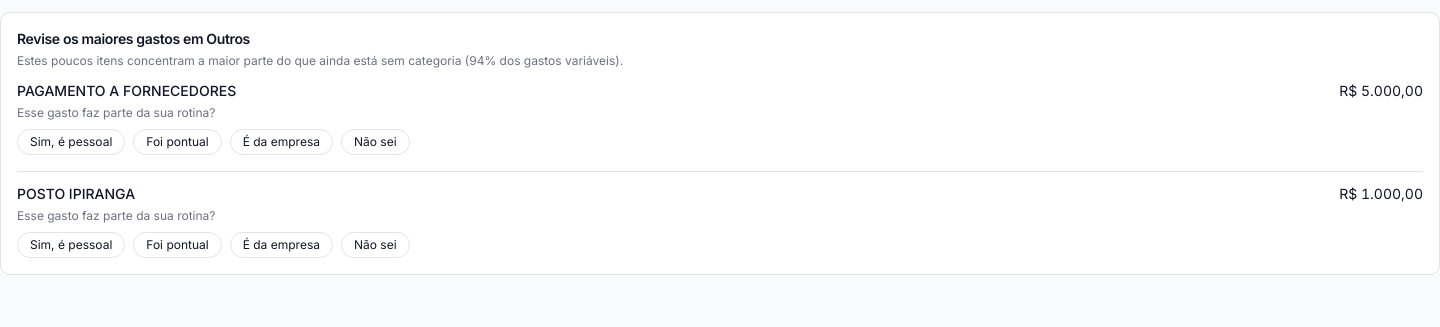
Test: OutrosReview › "Sim, é pessoal" revela o seletor de categoria (sem Outros)
// pega o primeiro botão "Sim, é pessoal" (item A)
Click the button "Sim, é pessoal" below "PAGAMENTO A FORNECEDORES" at (71, 142), box [17, 129, 125, 155]
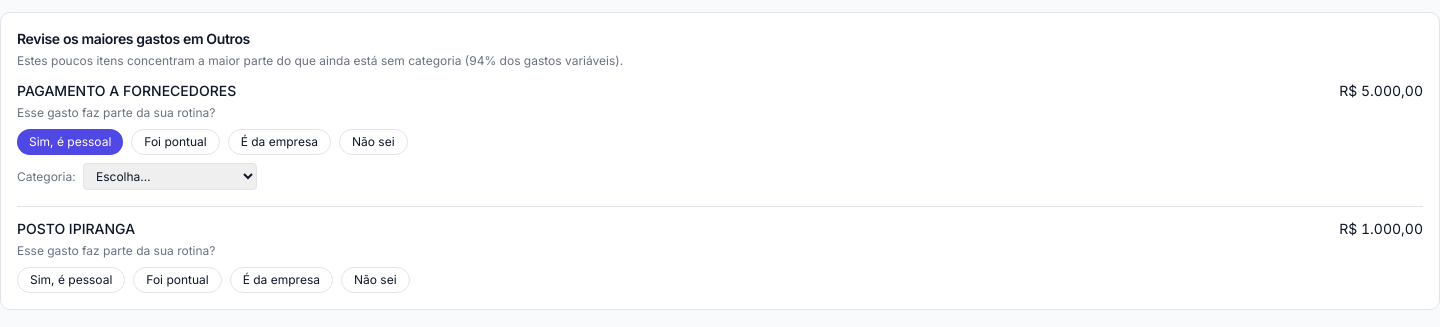
Expected: the dropdown named "Categoria de PAGAMENTO A FORNECEDORES" is shown, [83, 163, 257, 190]
